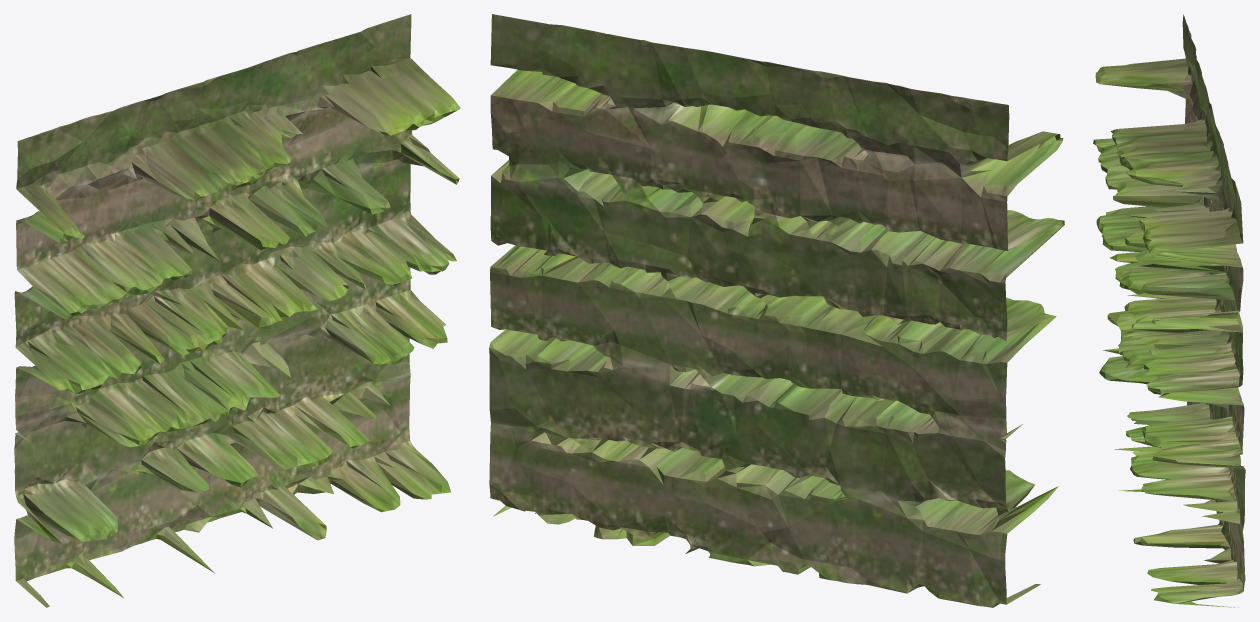
File: map_110_20.obj
3 views of the same model, side by side, from view 1: azimuth 30°, elevation 25°; view 2: azimuth 150°, elevation 25°; view 3: azimuth 270°, elevation 25° (orthographic). The views are drawn at different scales.
Parts seen in each view (by area): view 1: grp1; view 2: grp1; view 3: grp1.
Part boxes in pixels (box(x1,y1,x2,y2)): grp1: box(14, 14, 460, 607); grp1: box(489, 14, 1064, 607); grp1: box(1093, 14, 1245, 607).
Size of the model in its own units: 10 by 10 by 3.42.
Materials: 1 (1 with a texture image).
